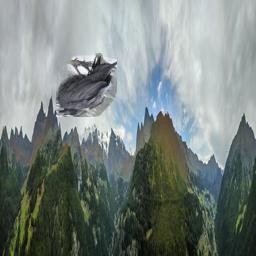Crow: (56, 53, 117, 117)
